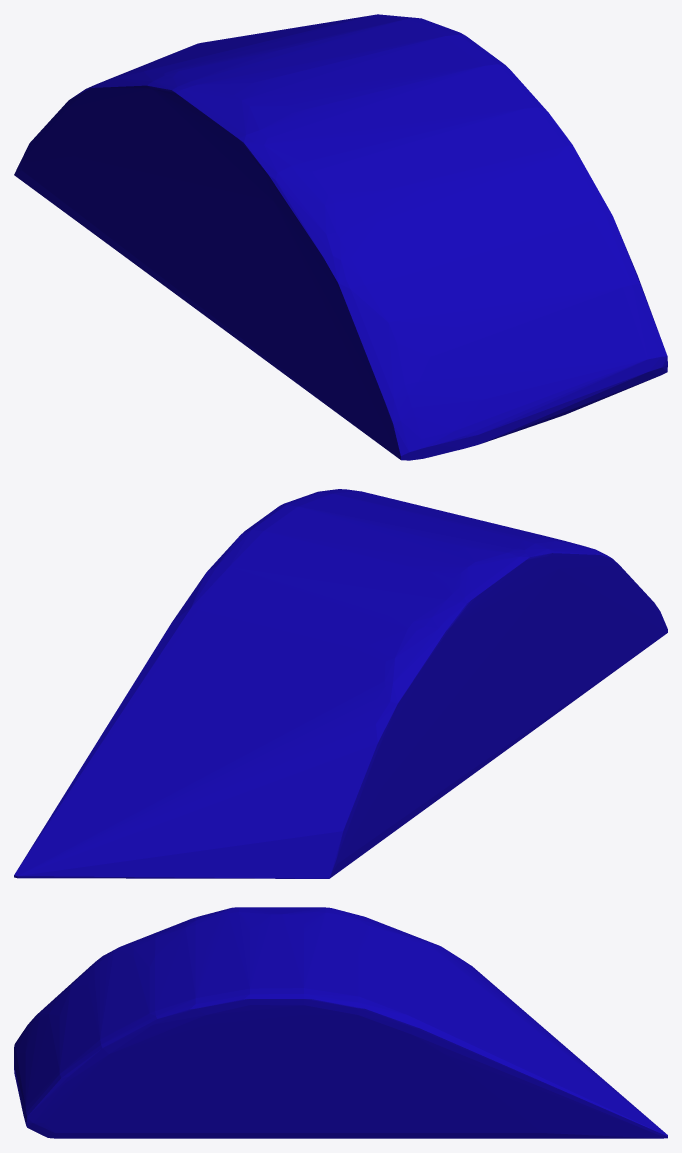
File: left-hip-roll-0_part_5.obj
3 renders of one model, top to bottom at view 1: azimuth 30°, elevation 25°; view 2: azimuth 150°, elevation 25°; view 3: azimuth 270°, elevation 25°, orthographic. The views are drawn at different scales.
Bounding box in the file's own units: 0.0267 × 0.0199 × 0.0796.
